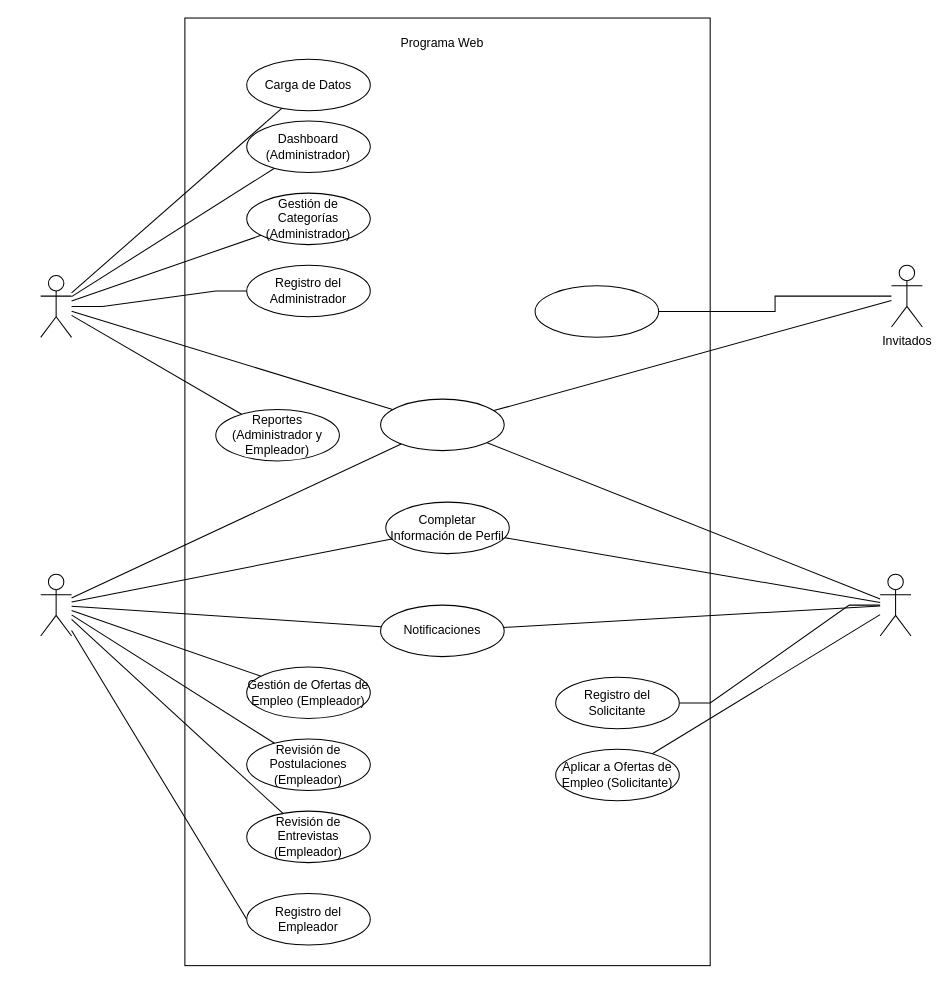
This 950x984 diagram has some shape labels left out. The centre of each missing label's shape, as x and y in pixels:
Administrador: (56,305)
Empleadores: (56,604)
Inicio de Sesión: (442,424)
Registro del Invitado: (596,311)
Solicitantes: (895,604)
